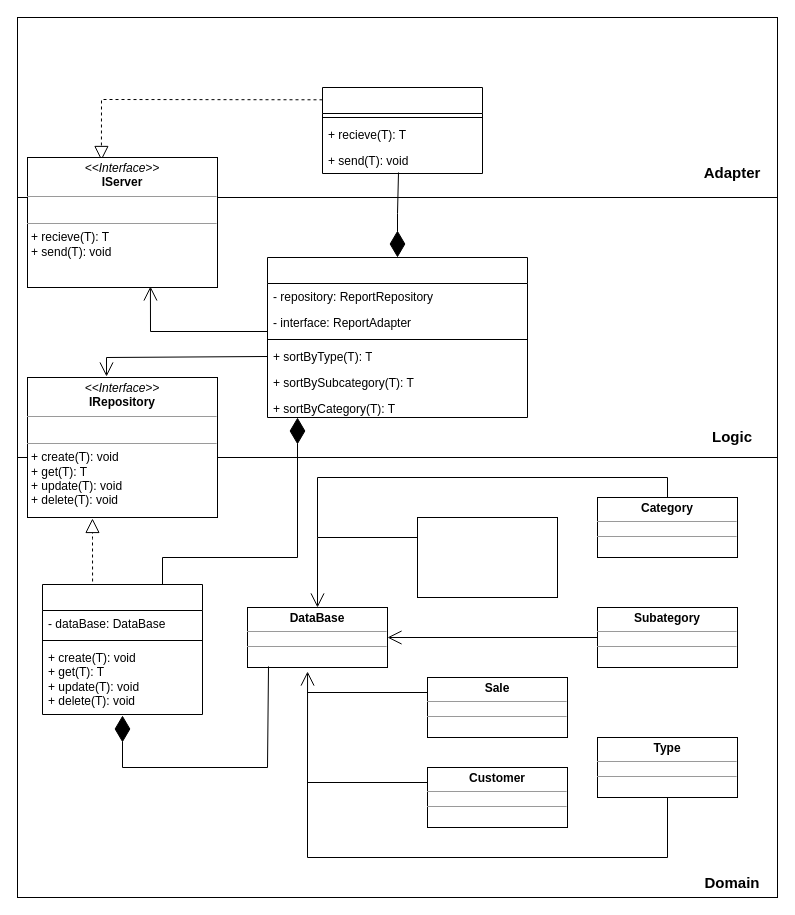
The diagram is 795 pixels wide and 915 high, and some of its shapes have lost their labels. The box of each missing label's shape, as (x1, y1, x2, y2) in pixels:
Product + field: Type + method(): Type: (416, 516, 558, 598)
ReportAdapter: (322, 86, 482, 174)
ReportRepository: (42, 584, 202, 714)
ReportService: (266, 256, 528, 418)
